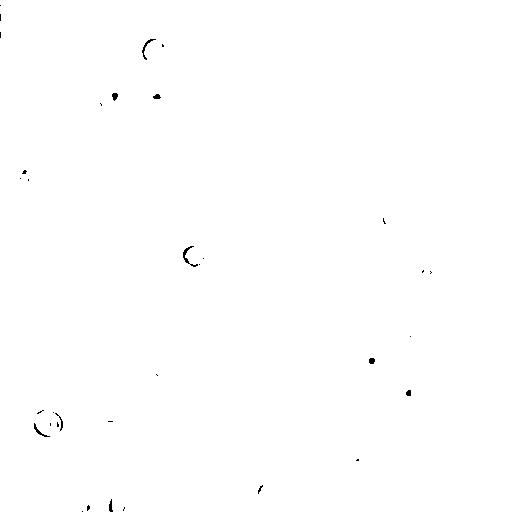micro-algae: (361, 279, 441, 357), (0, 314, 59, 407), (17, 52, 75, 106), (347, 437, 389, 479), (249, 391, 293, 427), (151, 256, 191, 294), (413, 327, 453, 365), (417, 0, 455, 35), (215, 29, 249, 64), (126, 77, 165, 107), (381, 6, 412, 41), (98, 77, 129, 112), (406, 257, 441, 287), (197, 108, 225, 140), (34, 408, 64, 437), (420, 483, 451, 511), (229, 474, 255, 506), (263, 61, 292, 89), (175, 133, 205, 160), (259, 479, 289, 505), (1, 161, 17, 209), (397, 379, 425, 405), (303, 100, 332, 125), (53, 186, 79, 213), (405, 292, 431, 319), (275, 429, 304, 453), (142, 36, 167, 63), (181, 241, 206, 268), (96, 90, 121, 116), (387, 330, 413, 354), (355, 347, 381, 370), (292, 151, 319, 173), (111, 180, 131, 209), (381, 209, 403, 233), (72, 456, 94, 479), (151, 361, 174, 381), (235, 116, 259, 135), (97, 418, 119, 438), (52, 389, 74, 409), (126, 303, 145, 326), (131, 104, 152, 124), (151, 485, 173, 504), (105, 492, 127, 511), (89, 0, 121, 12), (131, 445, 151, 463), (71, 497, 91, 512), (18, 165, 31, 185), (0, 0, 12, 21), (17, 0, 42, 9), (43, 502, 63, 511), (0, 23, 8, 41)
